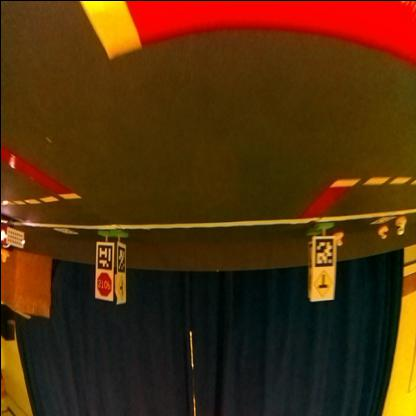Duckie: (394, 217, 404, 235), (377, 226, 387, 238), (335, 233, 342, 244), (1, 250, 7, 262)
Duckiebot: (1, 218, 23, 247)
Intersection sign: (312, 272, 332, 296), (116, 276, 124, 298)
QR code: (313, 239, 333, 265), (96, 244, 110, 270), (115, 246, 124, 270), (52, 228, 75, 235)
Stop sign: (96, 276, 110, 298)
